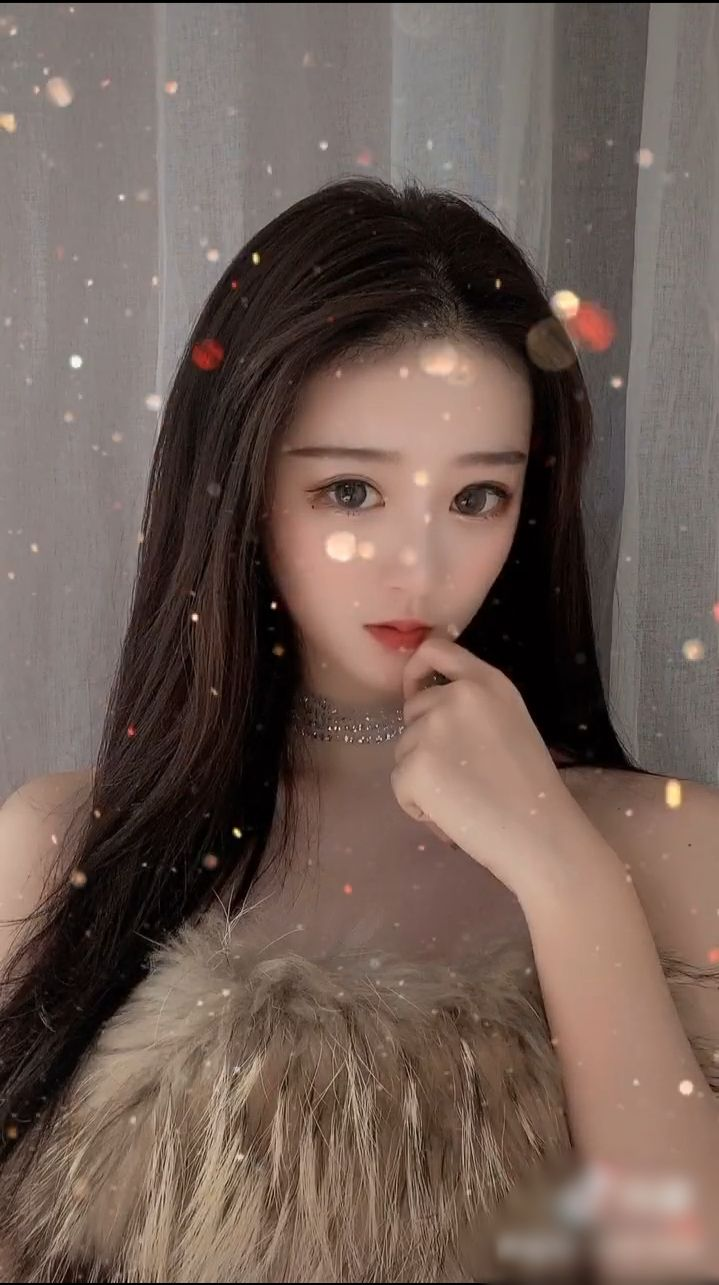person: (36, 186, 719, 1171)
